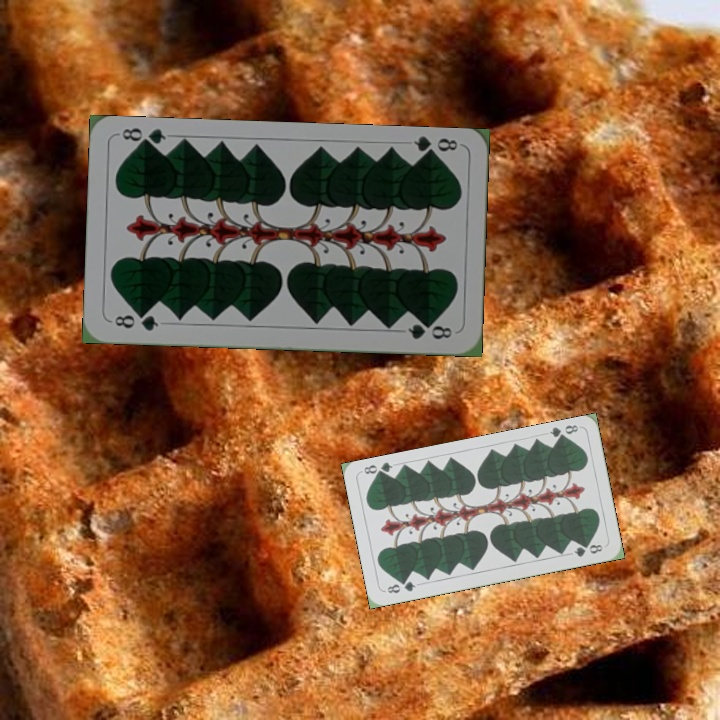G8: (410, 133, 460, 161), (110, 309, 161, 334), (546, 421, 581, 444), (383, 577, 418, 596)
